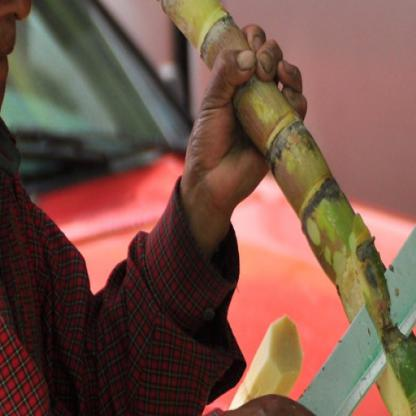knife: (296, 65, 415, 415)
